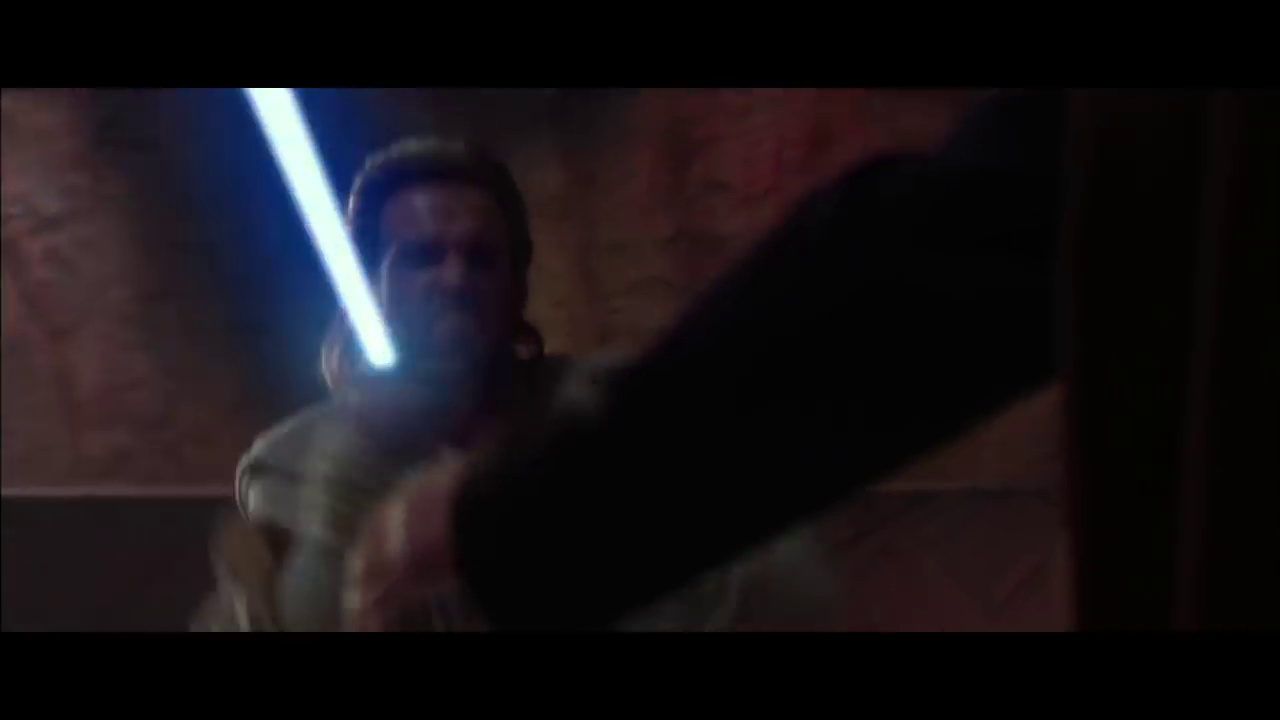lightsaber: (226, 88, 439, 399)
